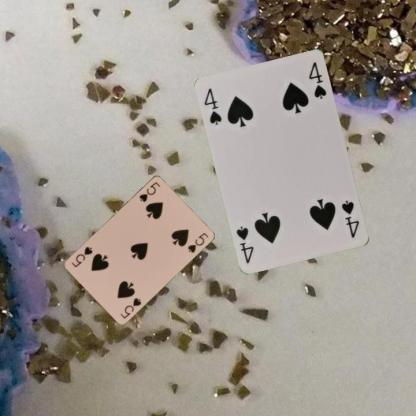4s: (339, 198, 361, 240), (202, 86, 224, 126)
5s: (117, 295, 143, 320), (136, 179, 162, 203)
